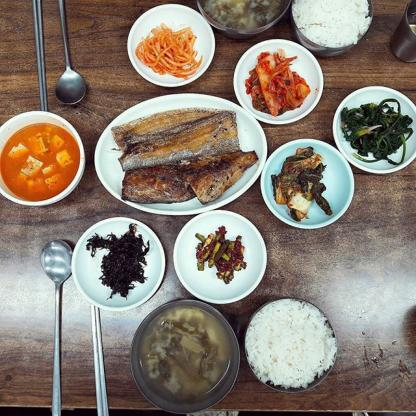Peixe: (104, 104, 255, 214)
